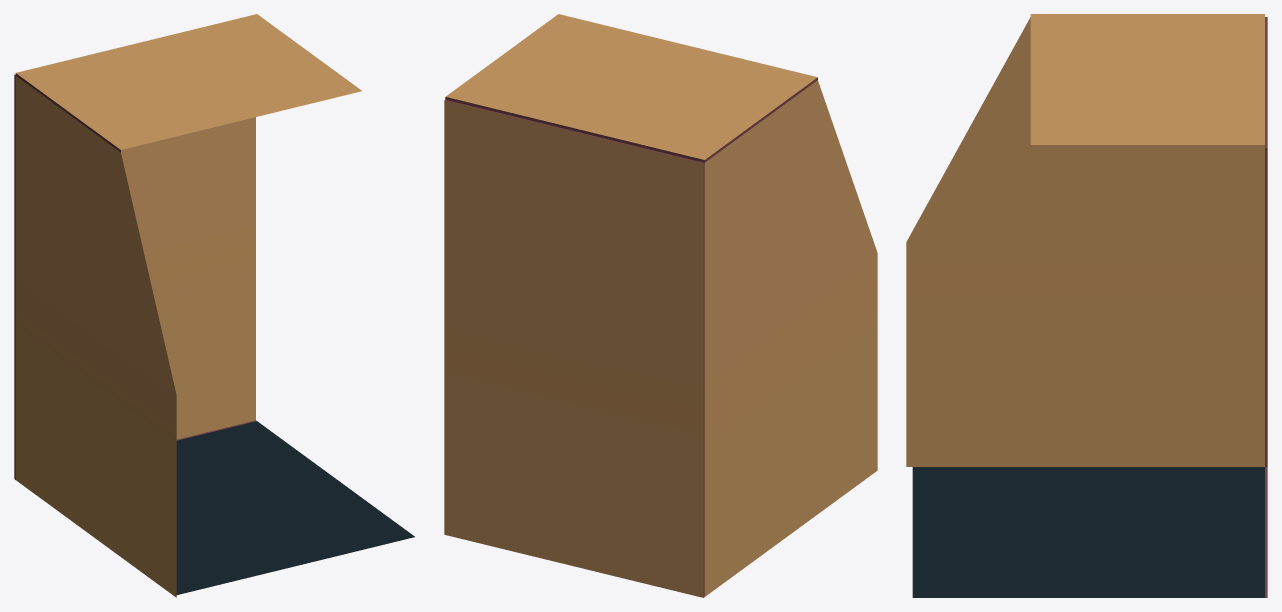
The model's file is cranKostil.fbx.
The picture shows the model from 3 angles, left to right: view 1: azimuth 30°, elevation 25°; view 2: azimuth 150°, elevation 25°; view 3: azimuth 270°, elevation 25°; orthographic projection. The views are drawn at different scales.
Parts seen in each view (by area): view 1: PlaneInsides; view 2: PlaneInsides; view 3: PlaneInsides.
Part boxes in pixels (<box>): PlaneInsides: <box>14,14,414,597</box>; PlaneInsides: <box>444,14,877,597</box>; PlaneInsides: <box>906,14,1267,597</box>.
Size of the model in its own units: 250 by 403 by 291.
